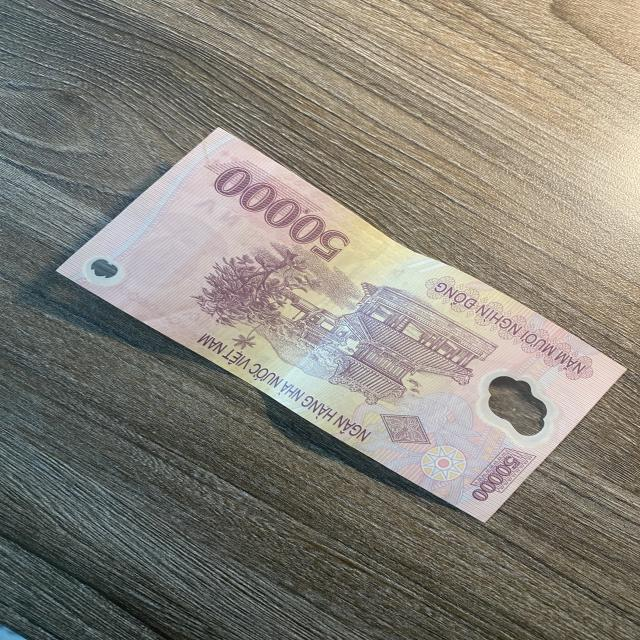50 000 VND: (55, 126, 628, 524)
